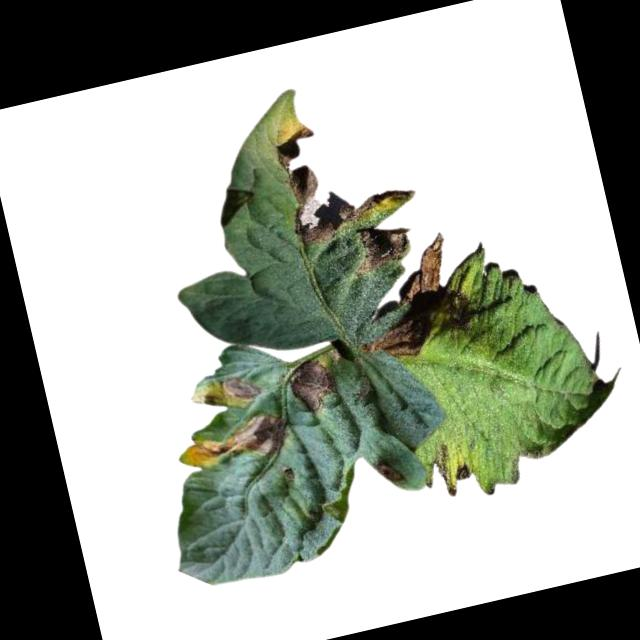Early_blight: (271, 103, 421, 250), (341, 232, 469, 369), (180, 404, 291, 475), (347, 216, 417, 278), (281, 352, 339, 419), (216, 370, 264, 409), (373, 456, 405, 490), (450, 460, 472, 482)
